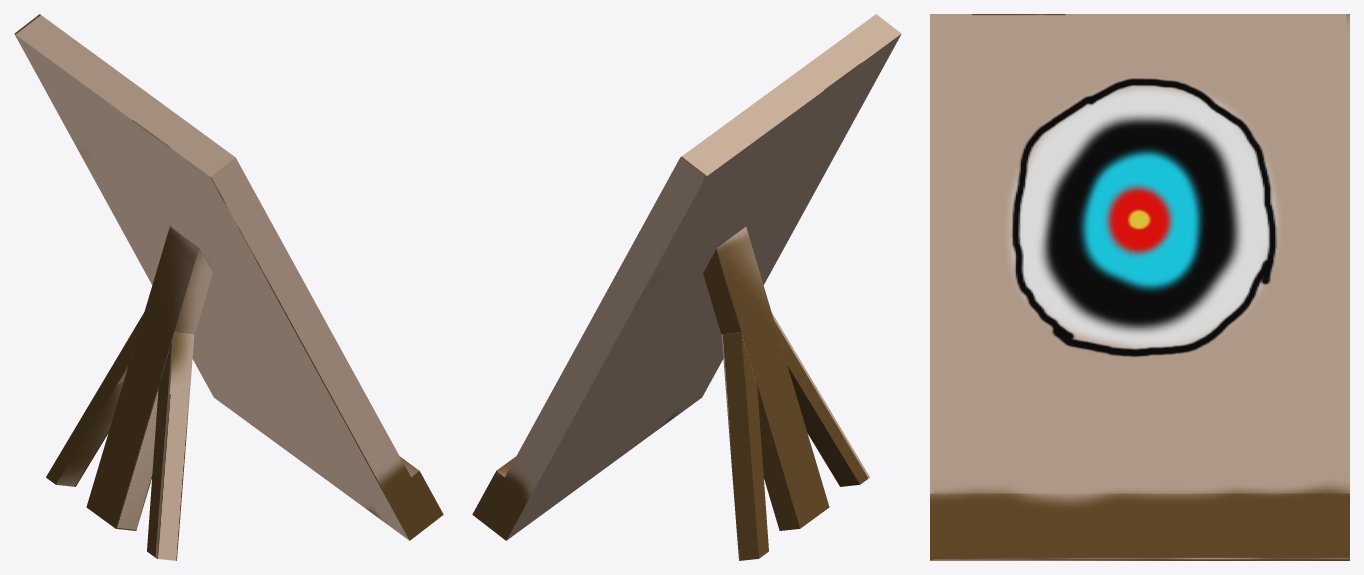
Rendered from target.fbx.
3 renders of one model, left to right at view 1: azimuth 30°, elevation 25°; view 2: azimuth 150°, elevation 25°; view 3: azimuth 270°, elevation 25°, orthographic. The views are drawn at different scales.
Visible parts, largest first — view 1: Cube.001; view 2: Cube.001; view 3: Cube.001.
Boxes of the visible parts, box(x1,y1,x2,y2) form: Cube.001: box(14, 14, 443, 560); Cube.001: box(472, 14, 901, 560); Cube.001: box(930, 14, 1349, 560).
Bounding box in the file's own units: 144 × 242 × 200.
Materials: 1 (1 with a texture image).
